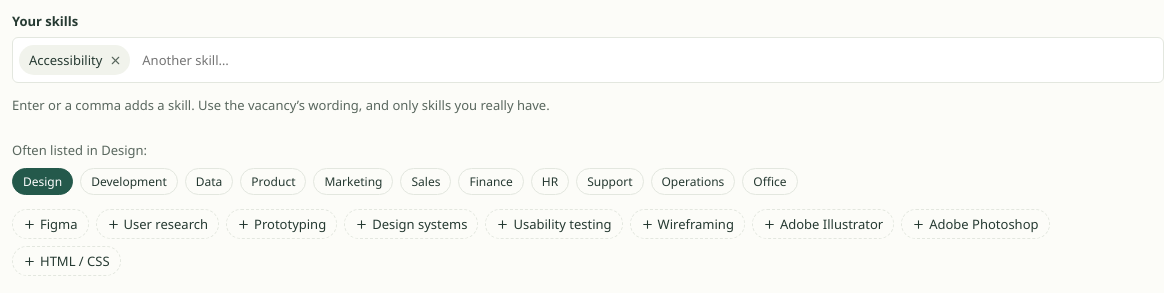
Test: keeps a skill draft while a composing keyboard confirms text
In the field labelled "Your skills": (647, 60) [136, 45, 1157, 75], type "設計"
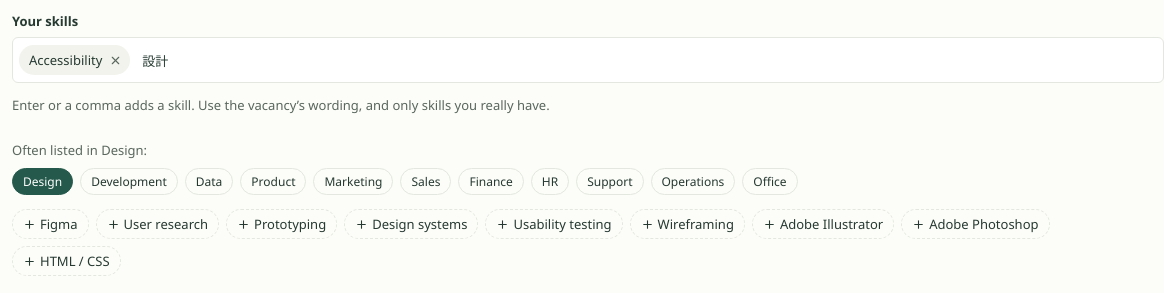
Press Enter in the field labelled "Your skills", box [136, 45, 1157, 75]
Press Enter in the field labelled "Your skills", box [136, 45, 1157, 75]
Press Enter in the field labelled "Your skills", box [136, 45, 1157, 75]
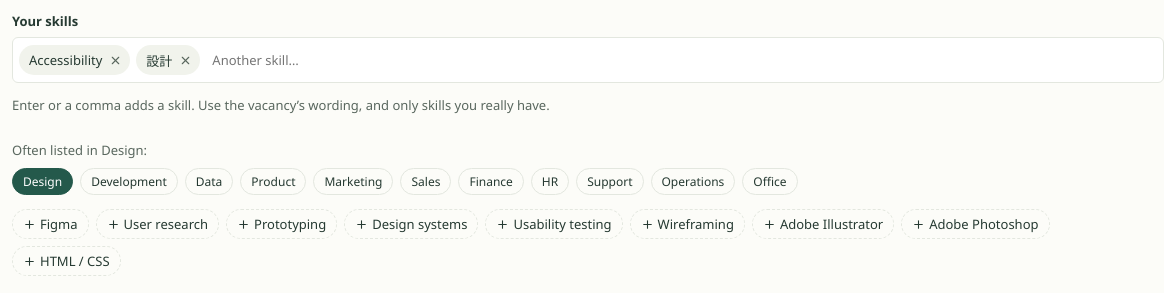
Now the button named "Remove “設計”" is shown, box [174, 49, 196, 71]
Now the field labelled "Your skills" is empty, box [206, 45, 1157, 75]
